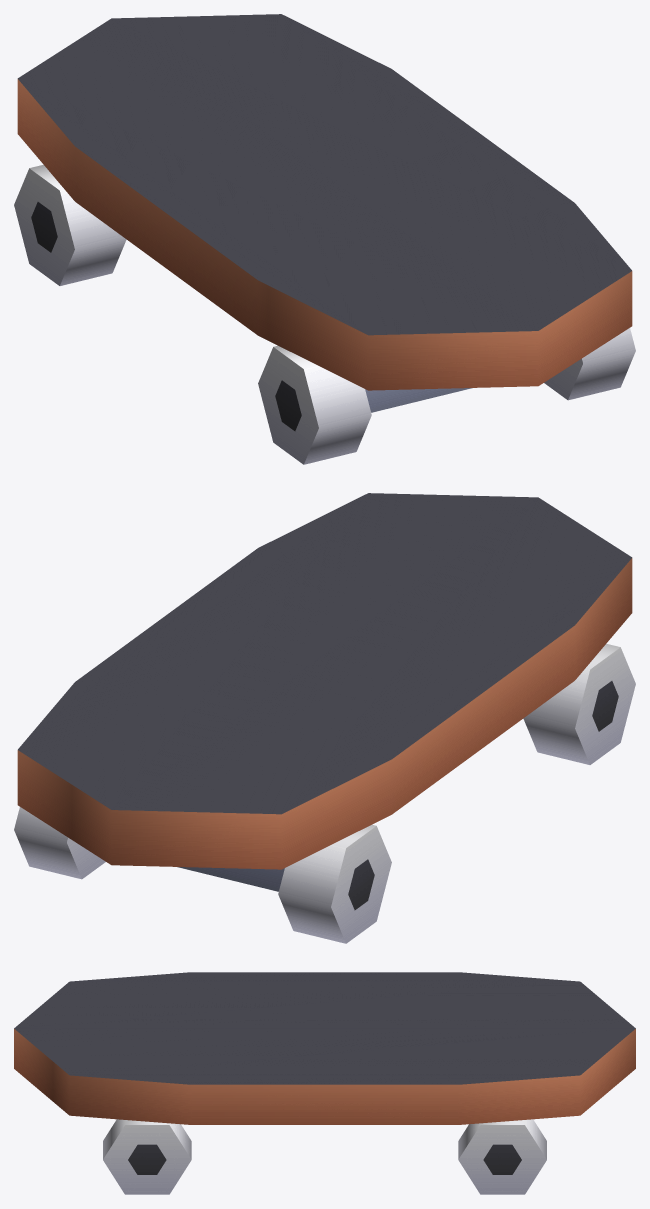
File: skateboard.glb
3 renders of one model, top to bottom at view 1: azimuth 30°, elevation 25°; view 2: azimuth 150°, elevation 25°; view 3: azimuth 270°, elevation 25°, orthographic. The views are drawn at different scales.
Parts seen in each view (by area): view 1: skateboard; view 2: skateboard; view 3: skateboard.
Boxes of the visible parts, bbox=[...] form: skateboard: bbox=[14, 14, 635, 464]; skateboard: bbox=[14, 493, 635, 943]; skateboard: bbox=[14, 972, 635, 1194].
Bounding box in the file's own units: 0.9 × 0.4098 × 2.1.
1 material, 1 textured.
